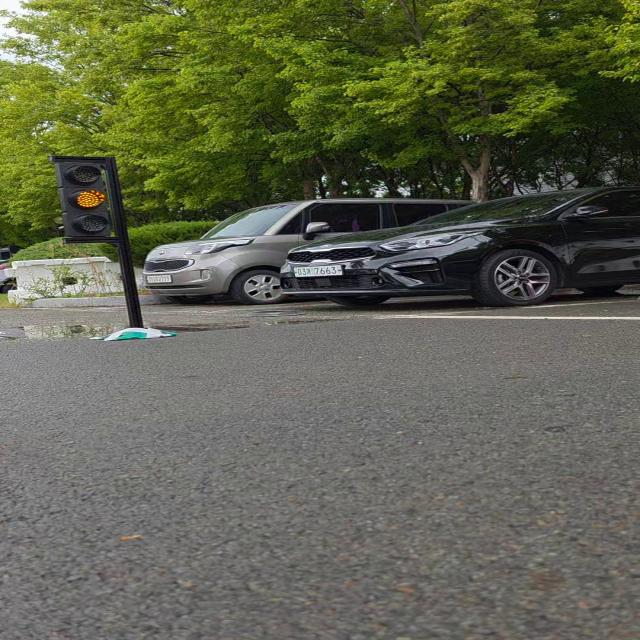yellow: (54, 158, 122, 238)
